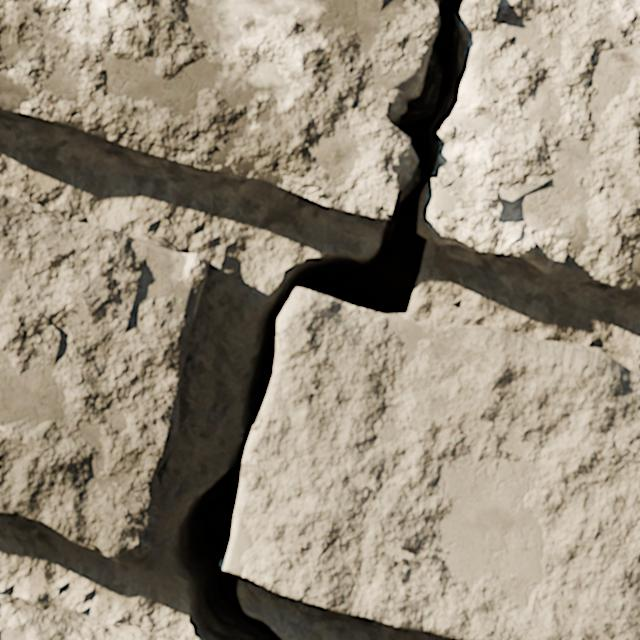broken_brick: (0, 0, 437, 219), (417, 0, 639, 290), (0, 595, 178, 639), (0, 110, 58, 126)
crack: (171, 0, 639, 639), (0, 195, 208, 562), (0, 107, 102, 137), (241, 176, 283, 188)
